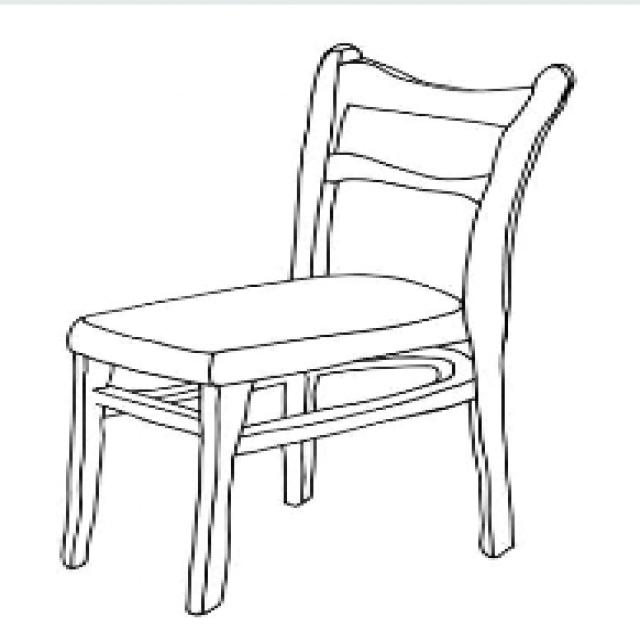Backrest: (284, 39, 581, 312)
Leg_Structure: (46, 343, 529, 621)
Seat: (62, 271, 475, 391)
